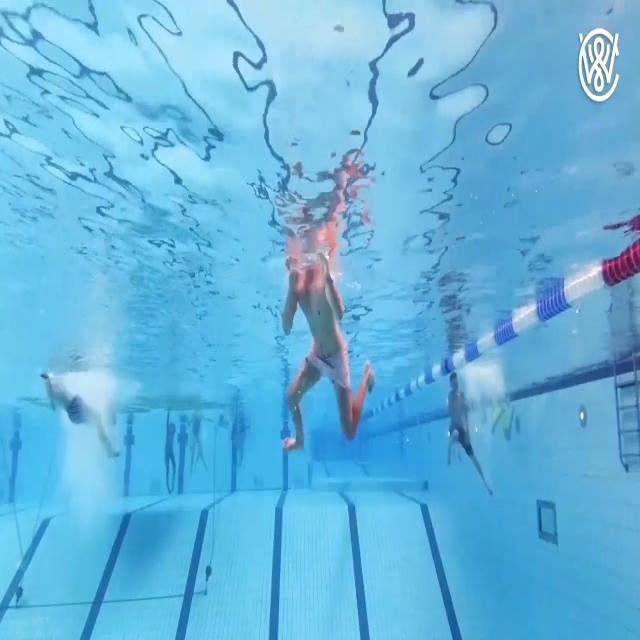Swimming: (279, 256, 374, 449), (41, 373, 121, 458), (447, 372, 495, 494)
